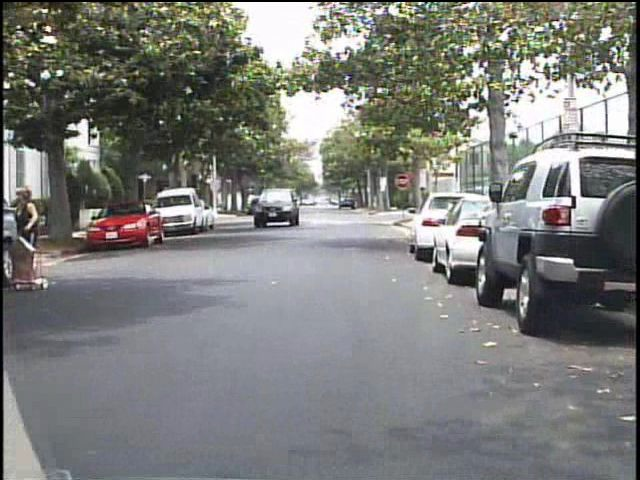person: (12, 185, 54, 296)
